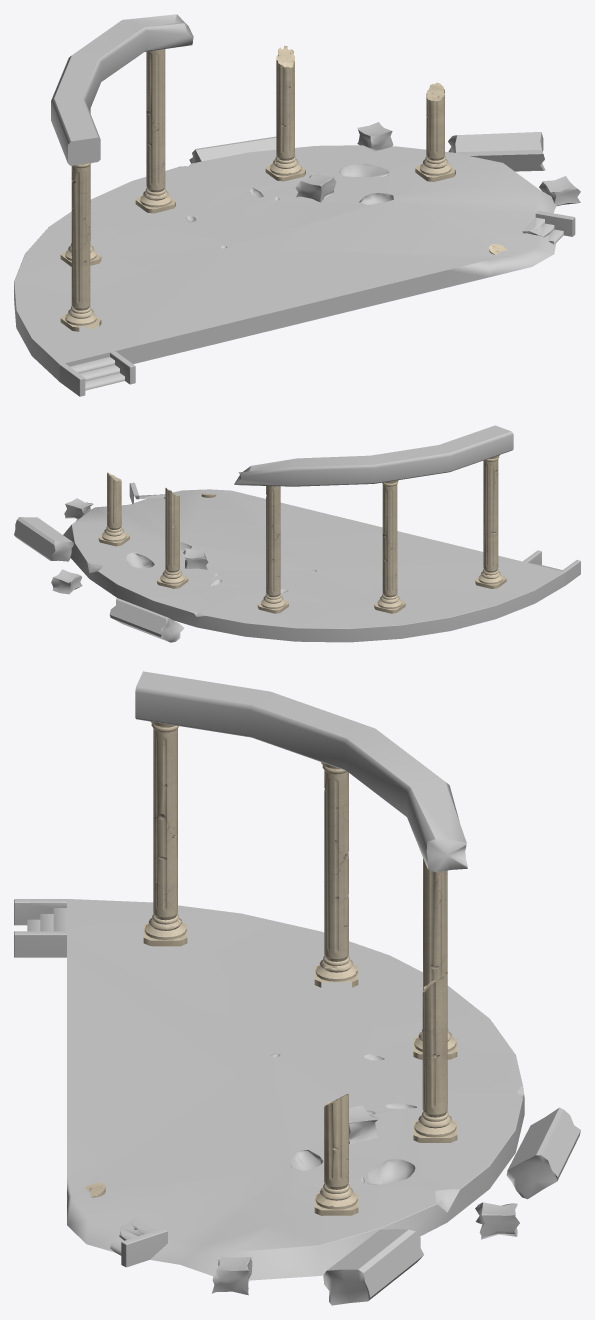
File: roman_theatre.fbx
3 views of the same model, one above another, from view 1: azimuth 30°, elevation 25°; view 2: azimuth 150°, elevation 25°; view 3: azimuth 270°, elevation 25° (orthographic). The views are drawn at different scales.
Visible parts, largest first — view 1: roman_theatre; view 2: roman_theatre; view 3: roman_theatre.
Boxes of the visible parts, bbox=[...] form: roman_theatre: bbox=[14, 14, 580, 396]; roman_theatre: bbox=[14, 425, 580, 642]; roman_theatre: bbox=[14, 671, 580, 1305].
Bounding box in the file's own units: 178 × 65 × 111.
